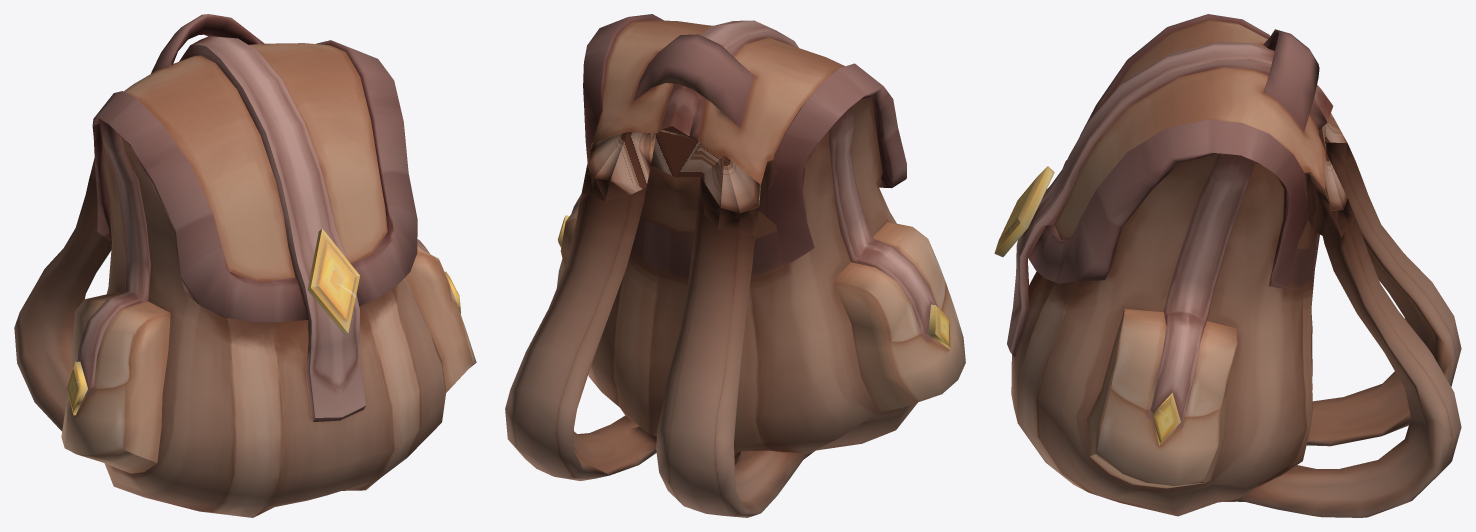
The model's file is Backpack.fbx.
The picture shows the model from 3 angles, left to right: view 1: azimuth 30°, elevation 25°; view 2: azimuth 150°, elevation 25°; view 3: azimuth 270°, elevation 25°; orthographic projection. The views are drawn at different scales.
Parts seen in each view (by area): view 1: M_BackPack_LOD0; view 2: M_BackPack_LOD0; view 3: M_BackPack_LOD0.
Part boxes in pixels (x1=…): M_BackPack_LOD0: x1=14, y1=14, x2=476, y2=517; M_BackPack_LOD0: x1=505, y1=14, x2=965, y2=517; M_BackPack_LOD0: x1=994, y1=14, x2=1461, y2=517.
Bounding box in the file's own units: 327 × 347 × 330.
